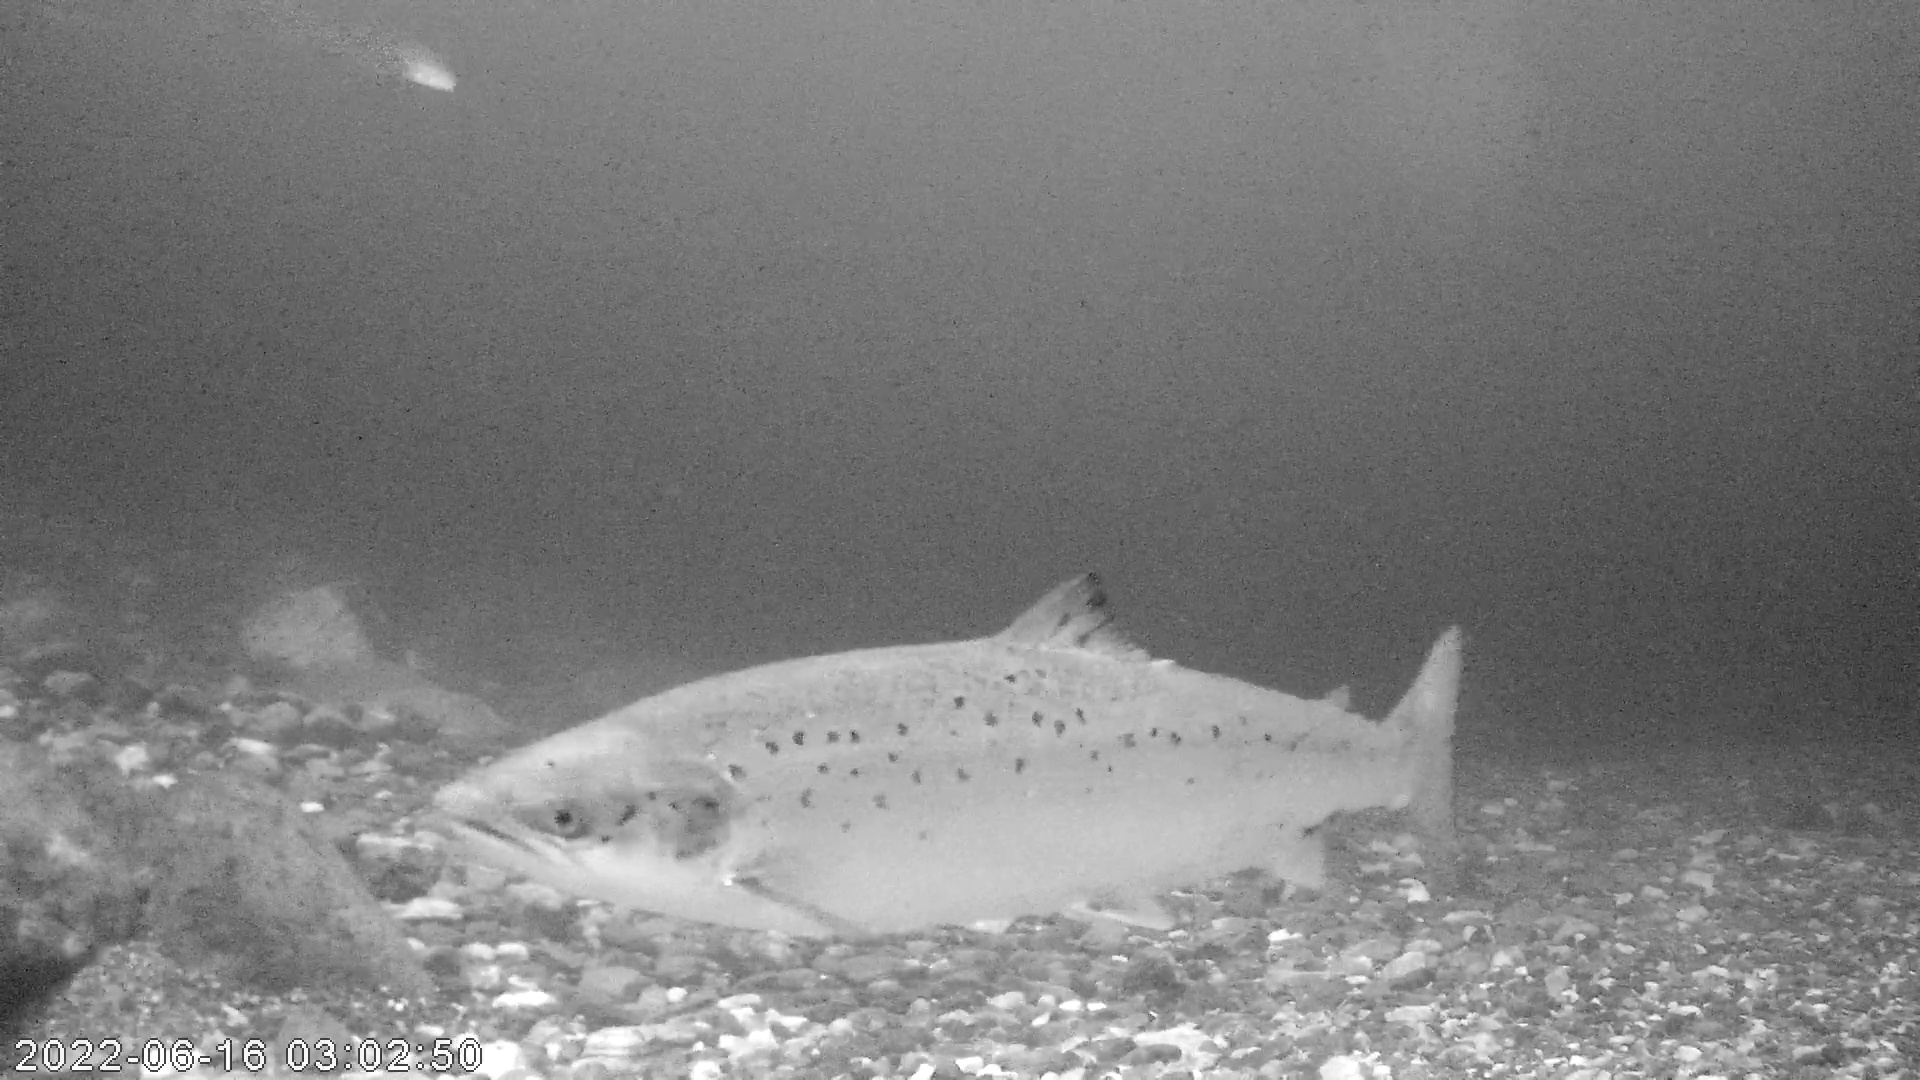salmon: (430, 567, 1466, 942)
